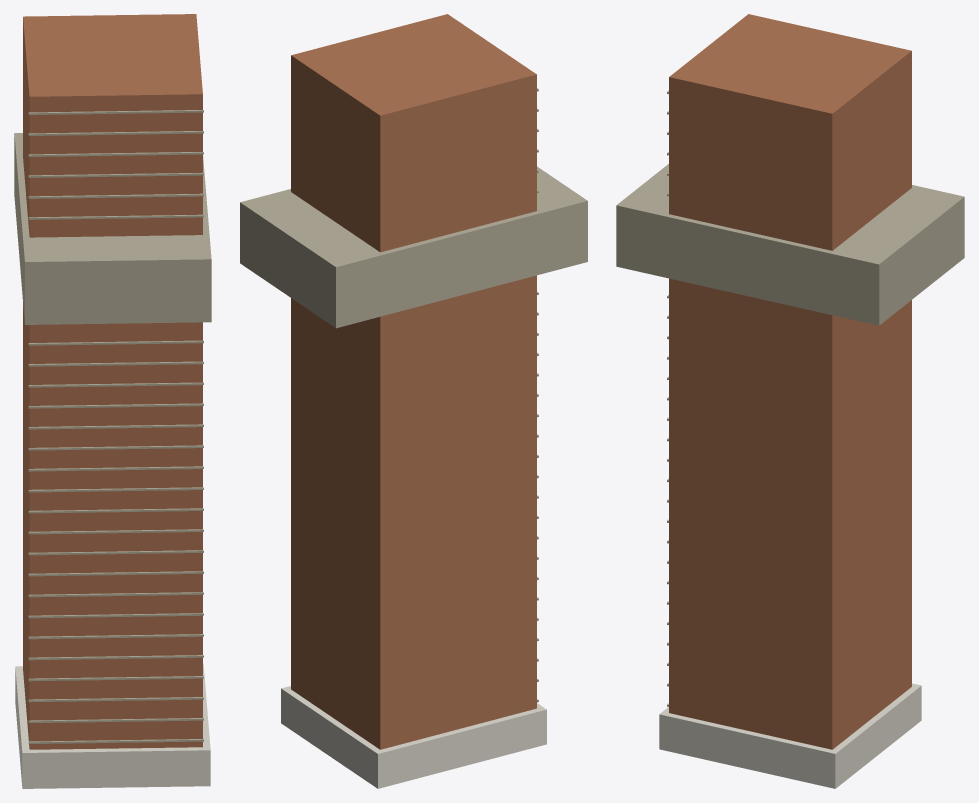
Rendered from column.glb.
3 views of the same model, side by side, from view 1: azimuth 30°, elevation 25°; view 2: azimuth 150°, elevation 25°; view 3: azimuth 270°, elevation 25° (orthographic). The views are drawn at different scales.
Size of the model in its own units: 1.87 by 4.6 by 2.16.
